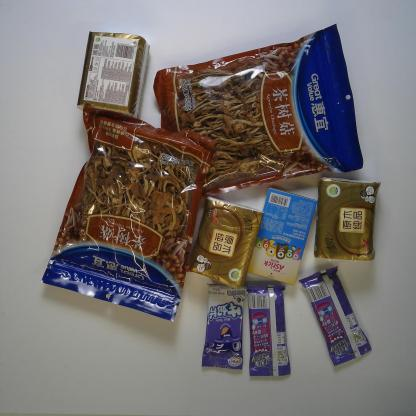Candy: (297, 265, 372, 369), (243, 284, 291, 380), (200, 282, 246, 371)
Dessert: (247, 186, 322, 288)
Dried Food: (36, 101, 221, 323), (156, 21, 364, 200)
Tissue: (181, 194, 265, 290), (73, 28, 152, 123), (313, 175, 379, 264)
